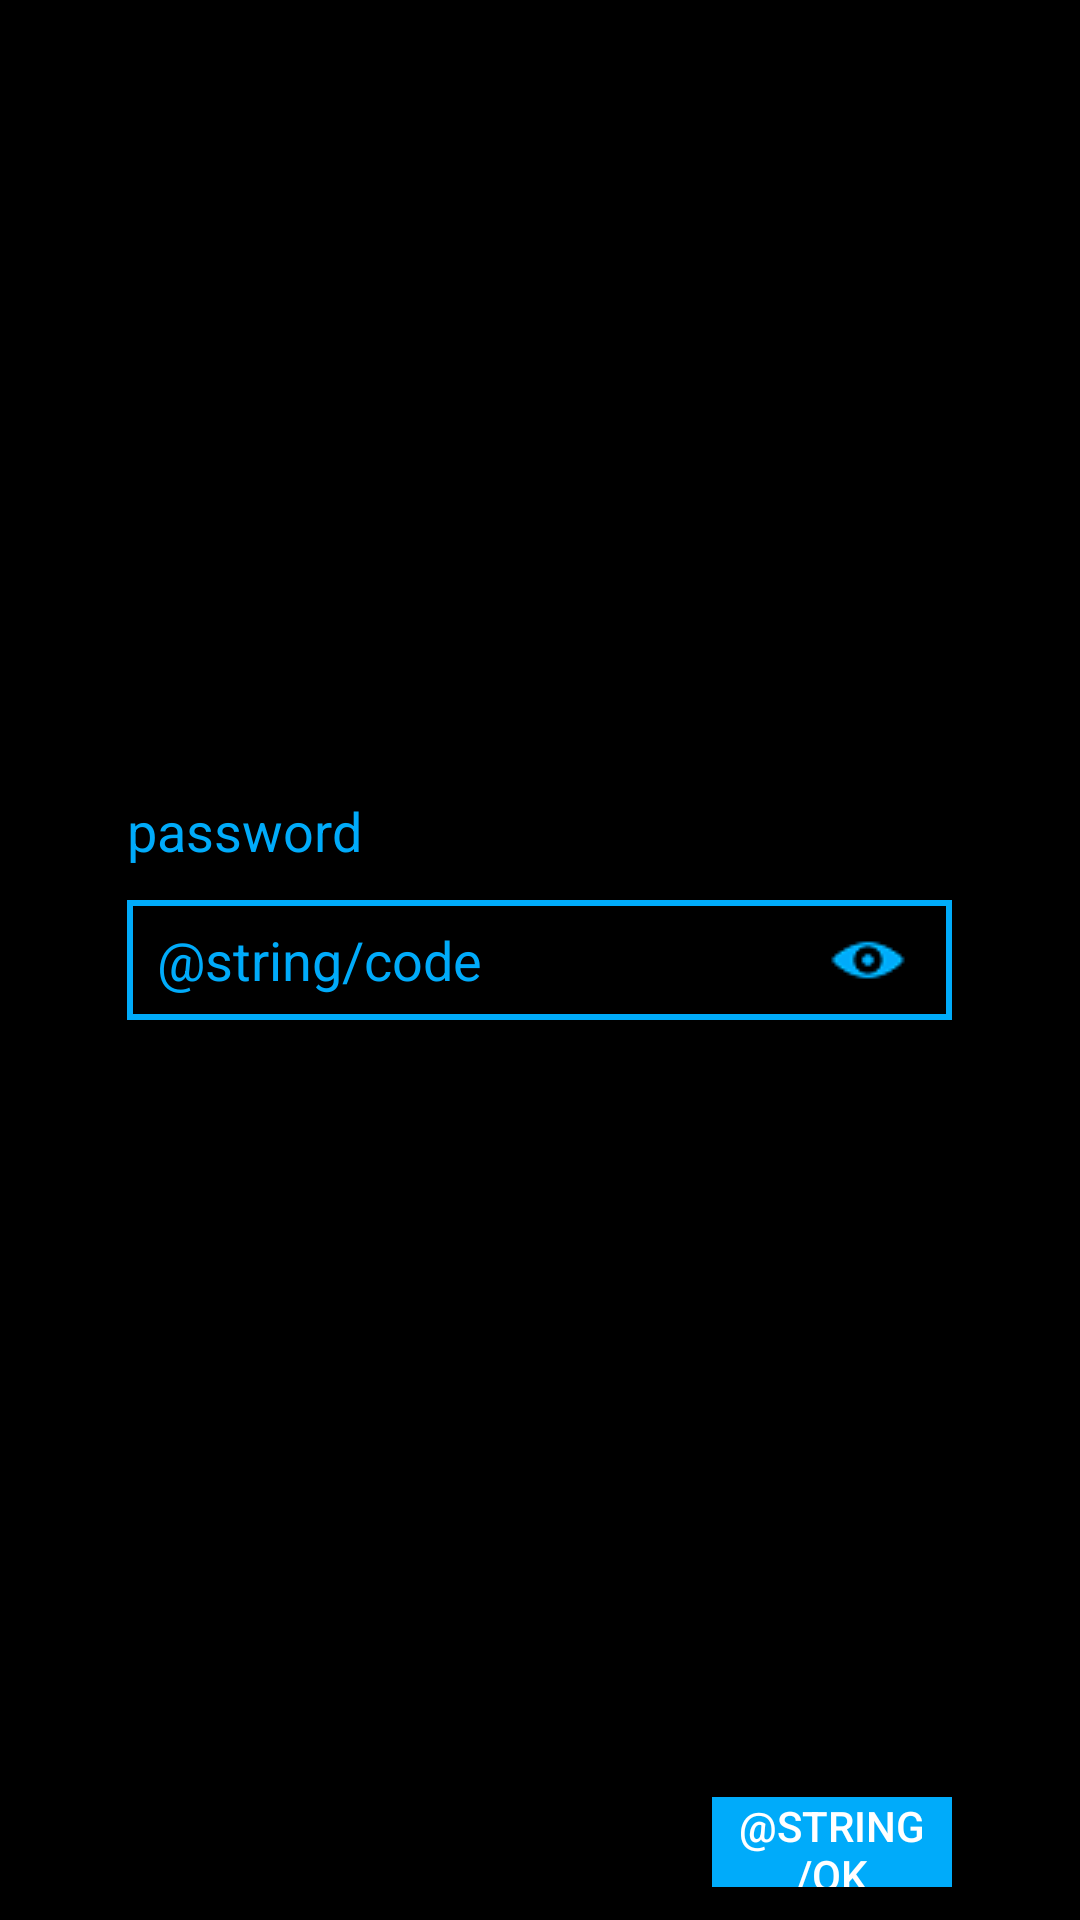

Point at icon controls on the screen. Image size 1080*1920, points as (x=x, y=y).
showpassword: (x=868, y=960)
